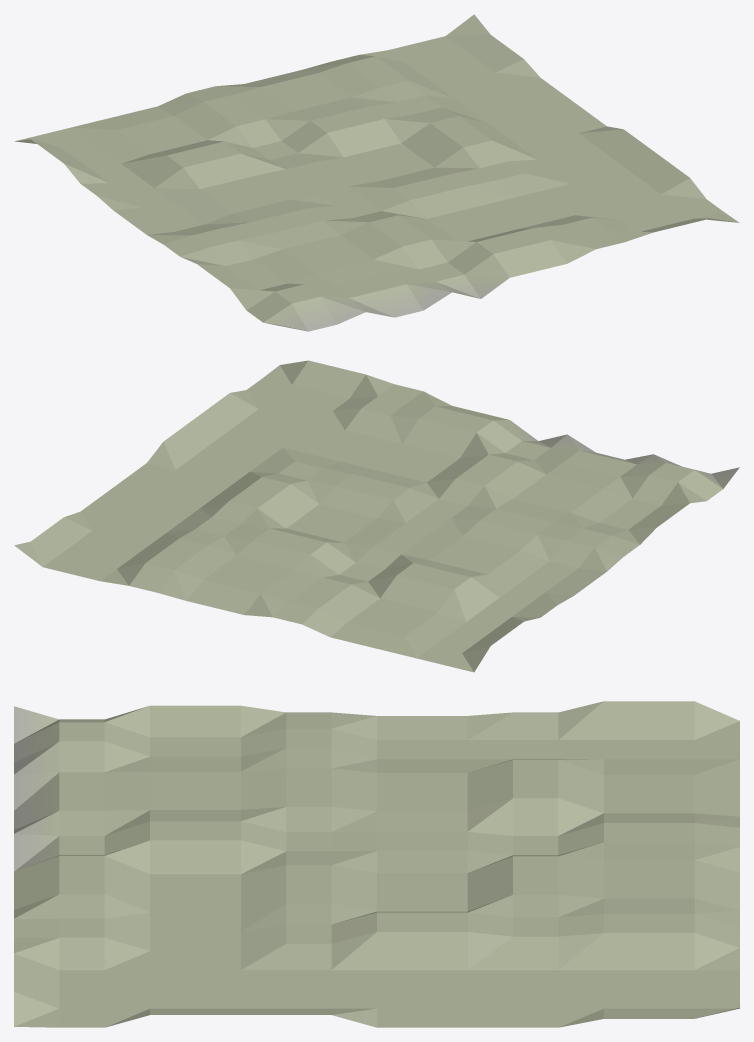
The picture shows the model from 3 angles, top to bottom: view 1: azimuth 30°, elevation 25°; view 2: azimuth 150°, elevation 25°; view 3: azimuth 270°, elevation 25°; orthographic projection. The views are drawn at different scales.
Size of the model in its own units: 32 by 1.8 by 32.
